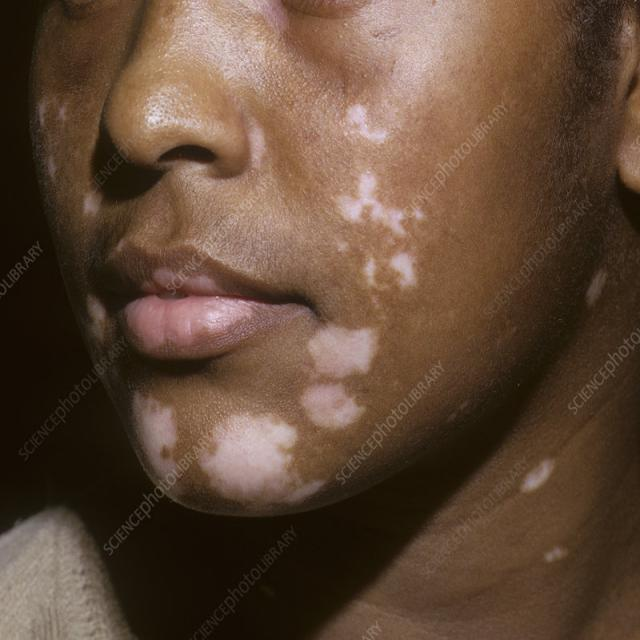vitiligo: (38, 62, 446, 492)
